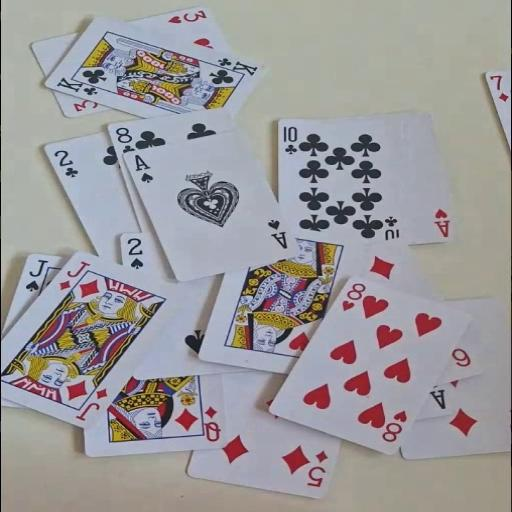10: (281, 124, 299, 155)
2: (50, 148, 80, 178), (126, 236, 146, 270)
3: (165, 8, 208, 24)
5: (304, 448, 330, 489)
7: (488, 74, 510, 102)
8: (379, 408, 409, 443), (339, 281, 368, 312), (113, 125, 135, 154)
A: (264, 217, 289, 249), (432, 206, 452, 238), (427, 387, 448, 410)
J: (72, 386, 110, 422), (56, 259, 91, 291)
K: (53, 74, 100, 96), (214, 55, 260, 77)
Q: (200, 404, 222, 443)
